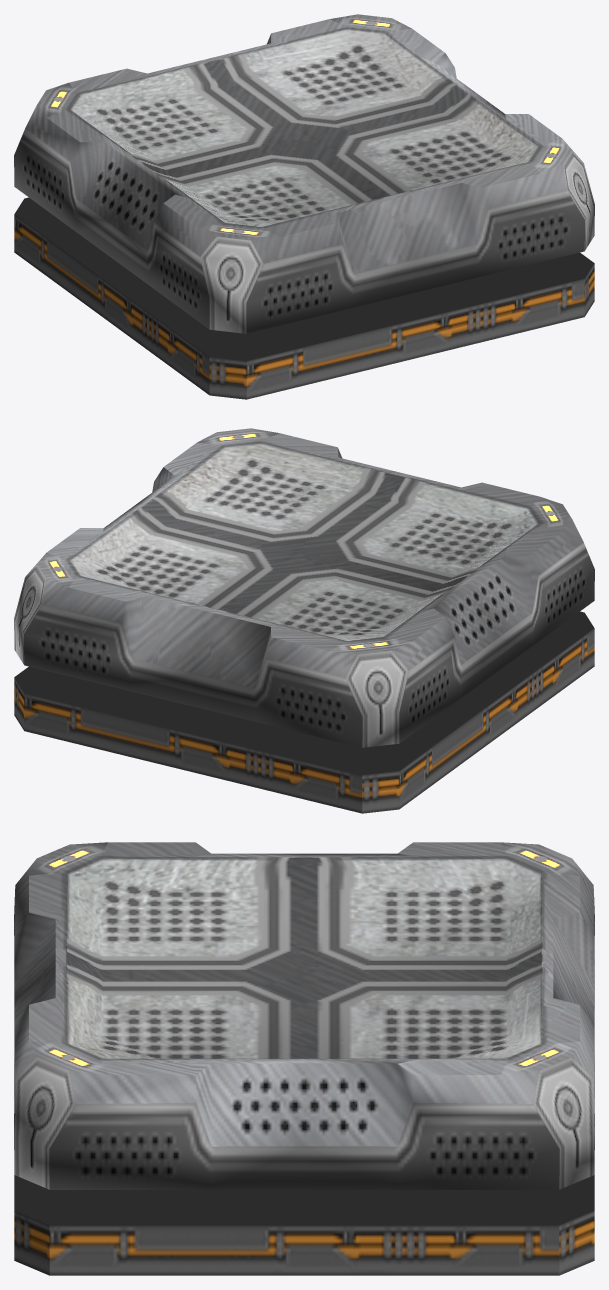
Rendered from depot.gltf.
3 views of the same model, one above another, from view 1: azimuth 30°, elevation 25°; view 2: azimuth 150°, elevation 25°; view 3: azimuth 270°, elevation 25° (orthographic). The views are drawn at different scales.
Parts seen in each view (by area): view 1: Plane.019; view 2: Plane.019; view 3: Plane.019.
Boxes of the visible parts, x1=… form: Plane.019: x1=14, y1=14, x2=594, y2=399; Plane.019: x1=14, y1=428, x2=594, y2=813; Plane.019: x1=14, y1=842, x2=594, y2=1275.
Bounding box in the file's own units: 10 × 3.71 × 10.
1 material, 1 textured.
